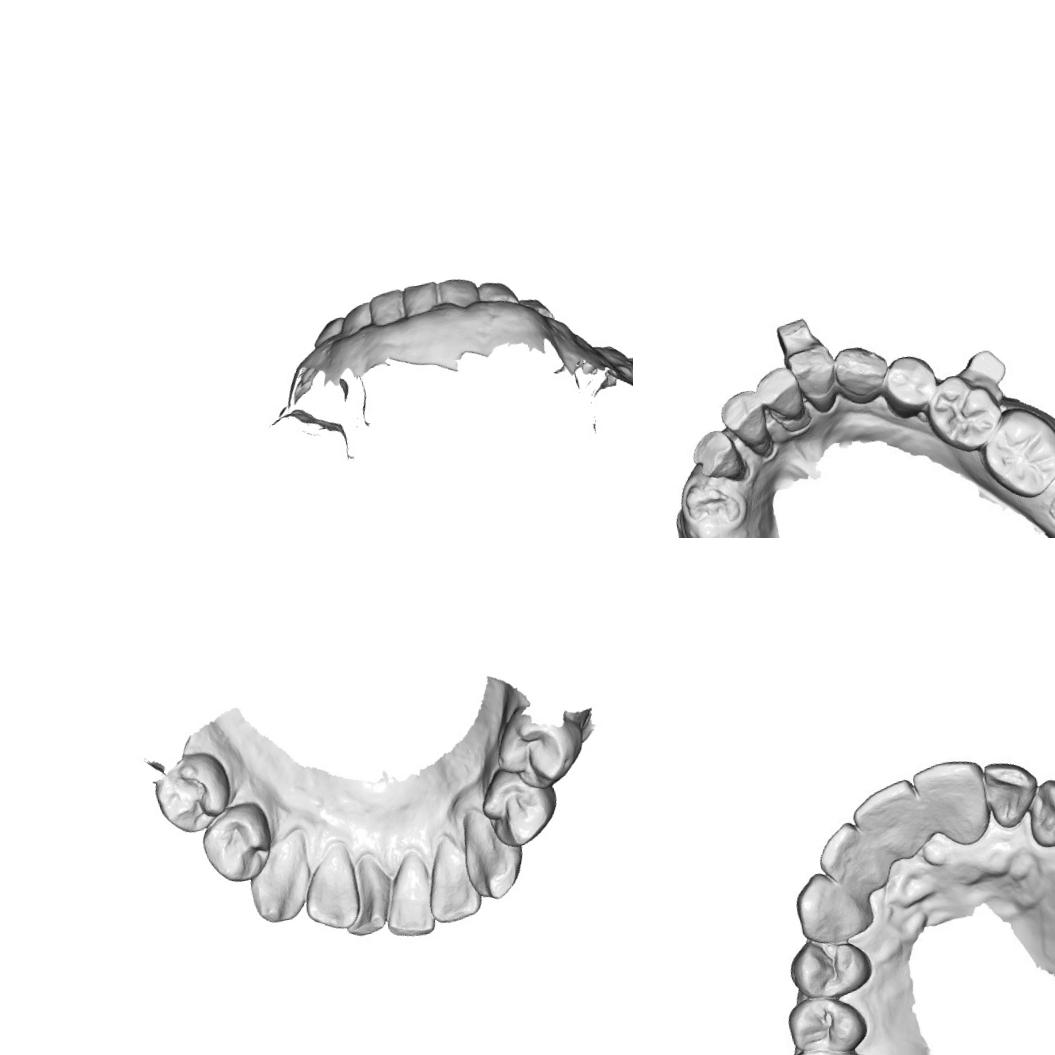canine: (788, 862, 878, 951), (241, 834, 320, 928), (455, 806, 528, 903), (832, 339, 889, 398), (1019, 768, 1055, 852), (474, 276, 518, 310), (308, 315, 348, 348)
incisor: (846, 775, 928, 863), (908, 754, 994, 837), (417, 837, 484, 927), (296, 850, 360, 936), (977, 750, 1044, 832), (812, 817, 879, 896), (376, 858, 440, 940), (333, 852, 394, 936), (781, 330, 843, 411), (720, 388, 778, 462), (692, 426, 746, 487), (758, 363, 804, 427), (436, 273, 480, 312), (367, 287, 407, 329), (400, 279, 441, 318), (336, 300, 374, 335)
molar: (978, 404, 1055, 499)
premolar: (490, 706, 586, 796), (474, 760, 561, 852), (148, 750, 238, 836), (196, 801, 278, 887), (784, 932, 879, 1006), (927, 372, 1008, 450), (783, 989, 871, 1055), (882, 354, 934, 412)
